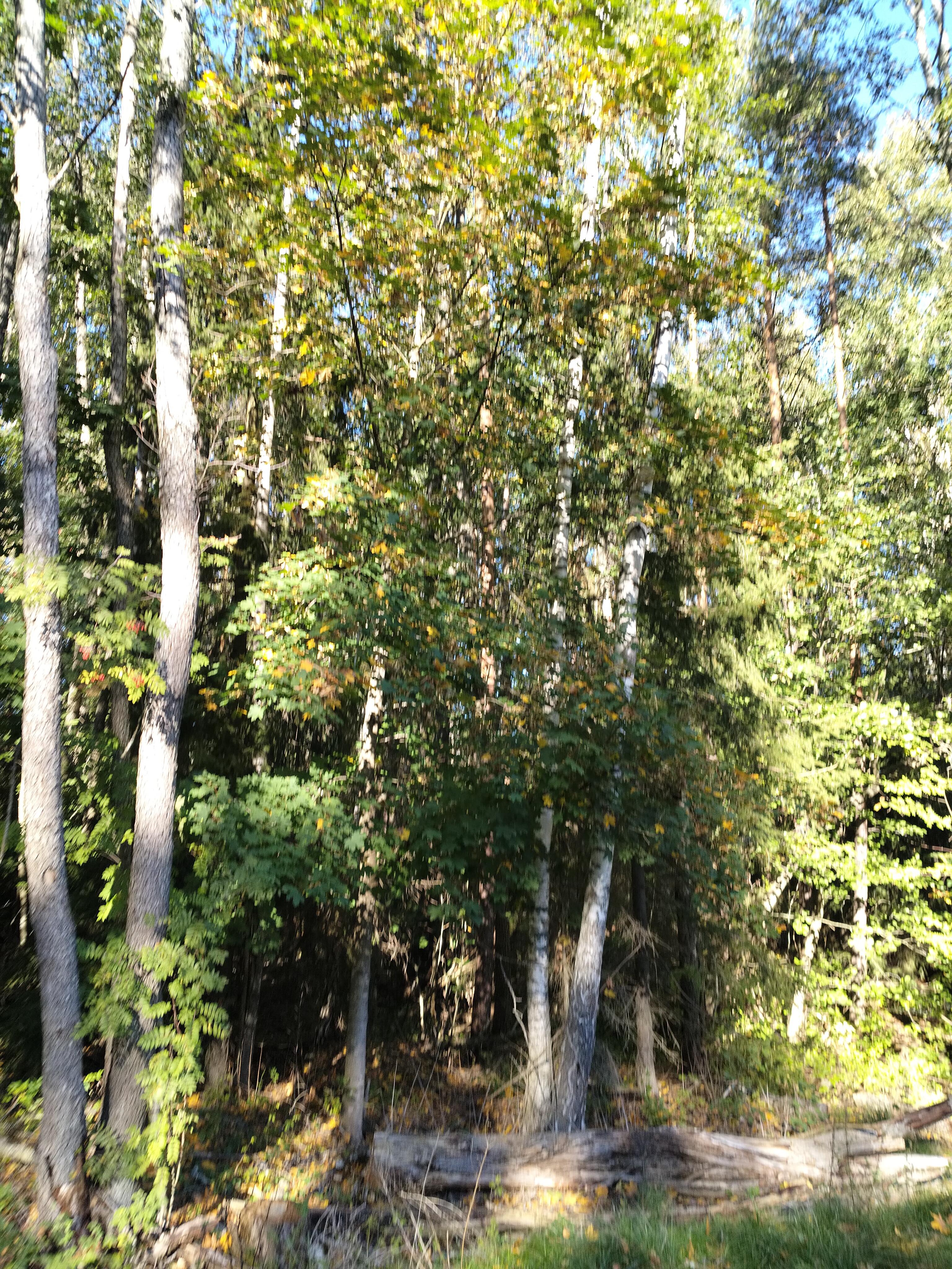Birch: (407, 0, 821, 1156), (0, 0, 357, 1252)
